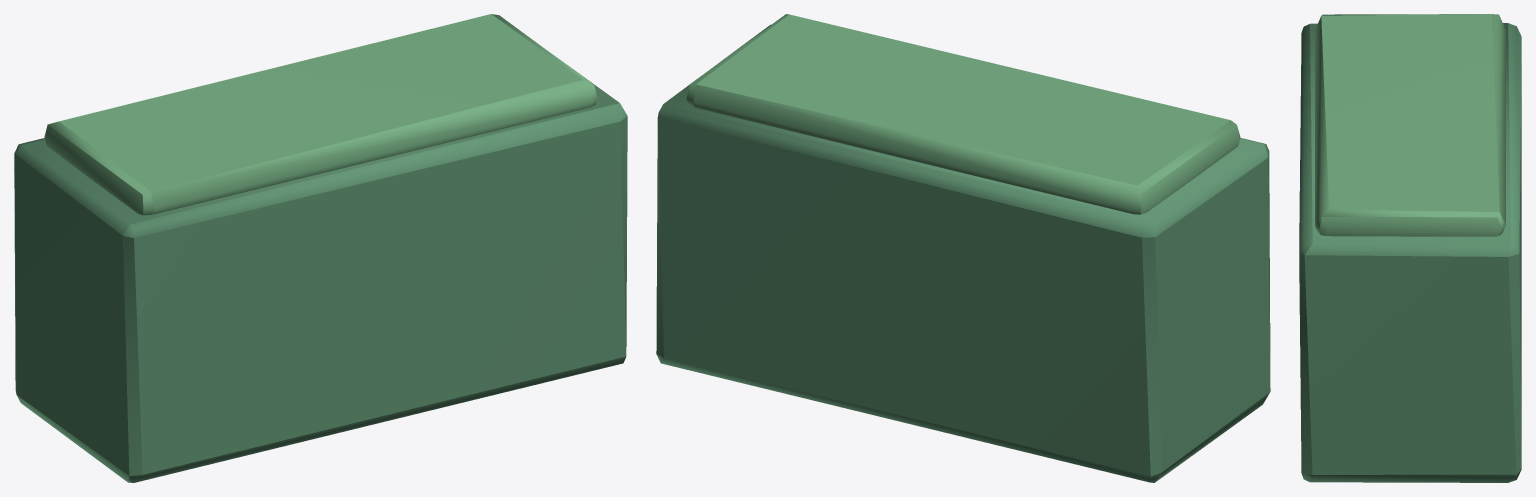
The model's file is SM_Warmerdamm_Hedge_LOD1.fbx.
The picture shows the model from 3 angles, left to right: view 1: azimuth 30°, elevation 25°; view 2: azimuth 150°, elevation 25°; view 3: azimuth 270°, elevation 25°; orthographic projection. The views are drawn at different scales.
Visible parts, largest first — view 1: SM_Warmerdamm_Hedge_LOD1; view 2: SM_Warmerdamm_Hedge_LOD1; view 3: SM_Warmerdamm_Hedge_LOD1.
Part boxes in pixels (x1=…): SM_Warmerdamm_Hedge_LOD1: x1=14, y1=14, x2=627, y2=482; SM_Warmerdamm_Hedge_LOD1: x1=656, y1=14, x2=1270, y2=482; SM_Warmerdamm_Hedge_LOD1: x1=1299, y1=14, x2=1521, y2=482.
Bounding box in the file's own units: 2.4 × 1.29 × 1.
